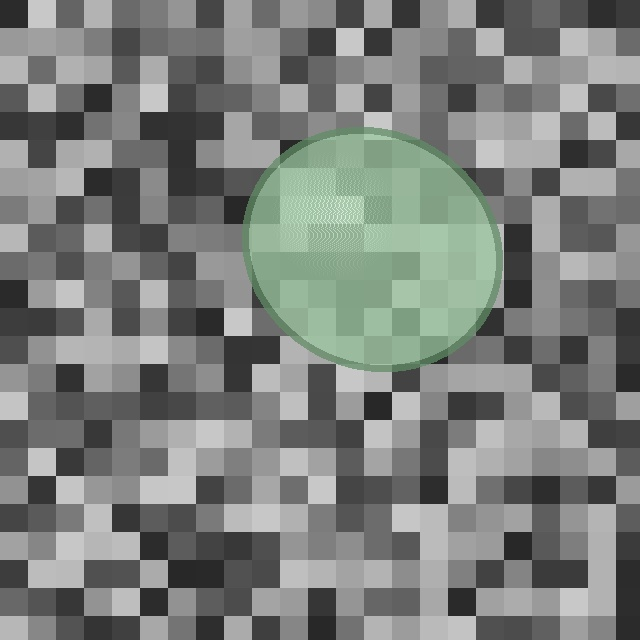lens: (245, 130, 499, 368)
